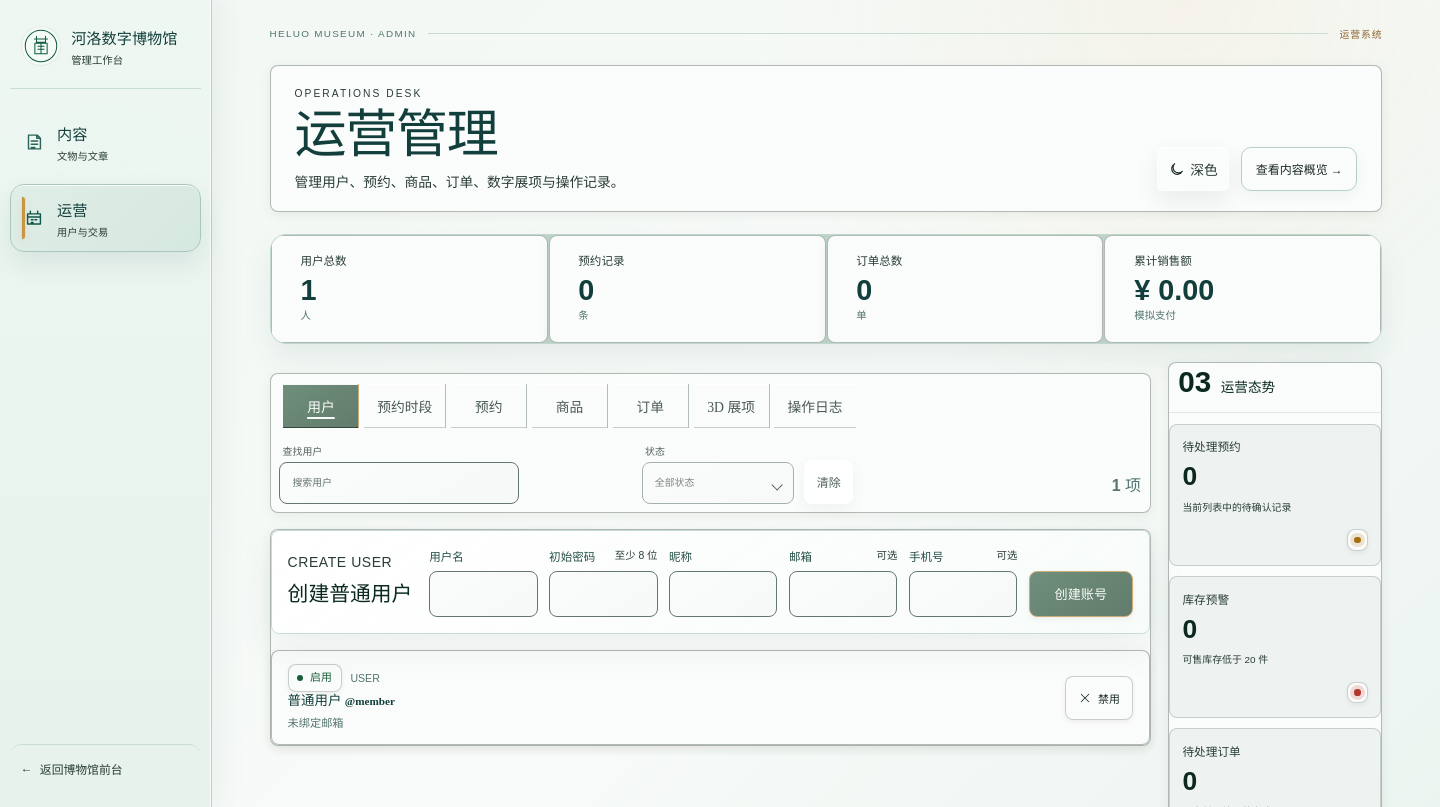
it: remediation view behavior › retains the admin user form when account creation fails
This screenshot has width=1440, height=807.
Type "new_member" into the field labelled "用户名" at point(483, 594), box [429,571,538,617]
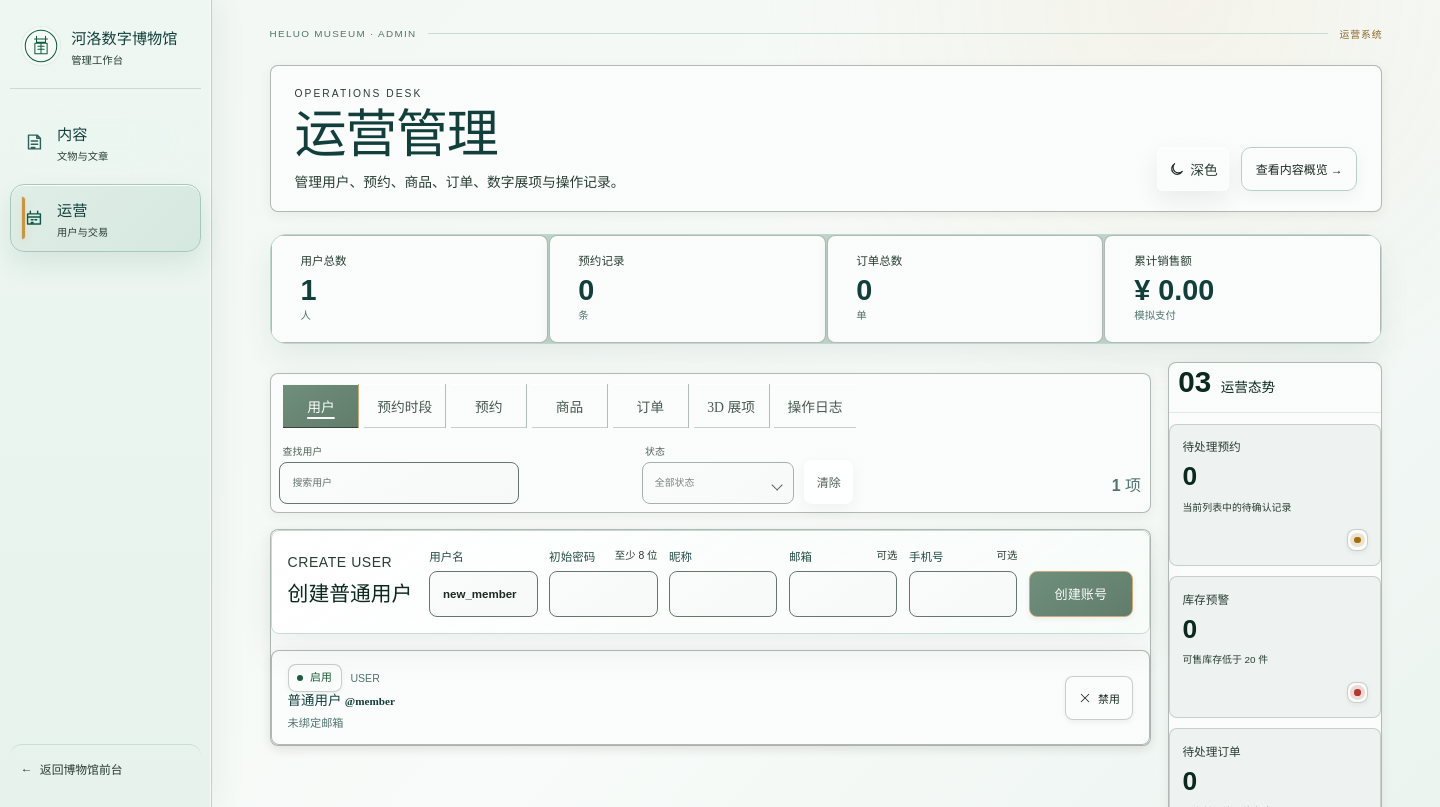
Type "SafePassword123" into the password field labelled "初始密码 至少 8 位" at point(603, 594), box [549,571,658,617]
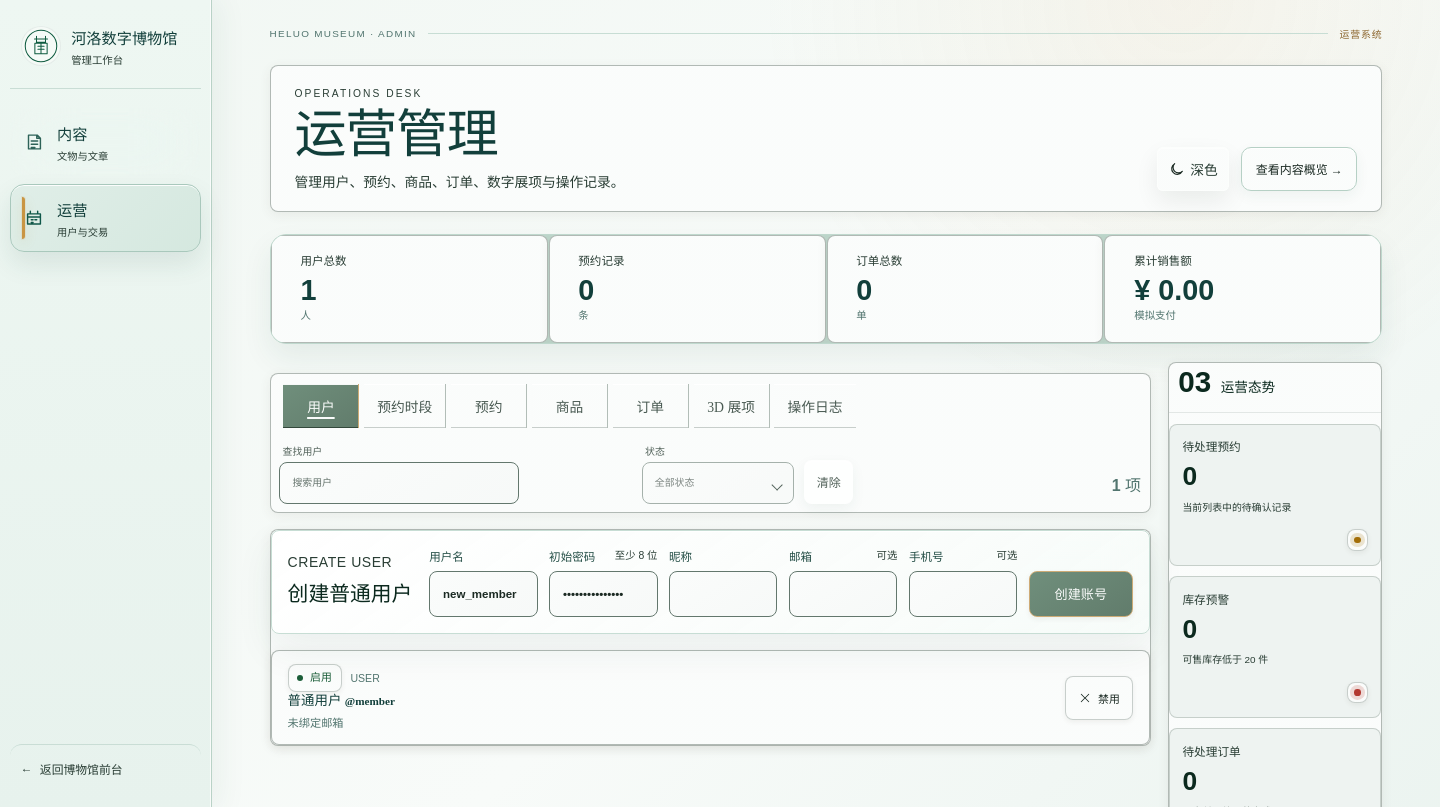
Type "新普通用户" into the field labelled "昵称" at point(723, 594), box [669,571,777,617]
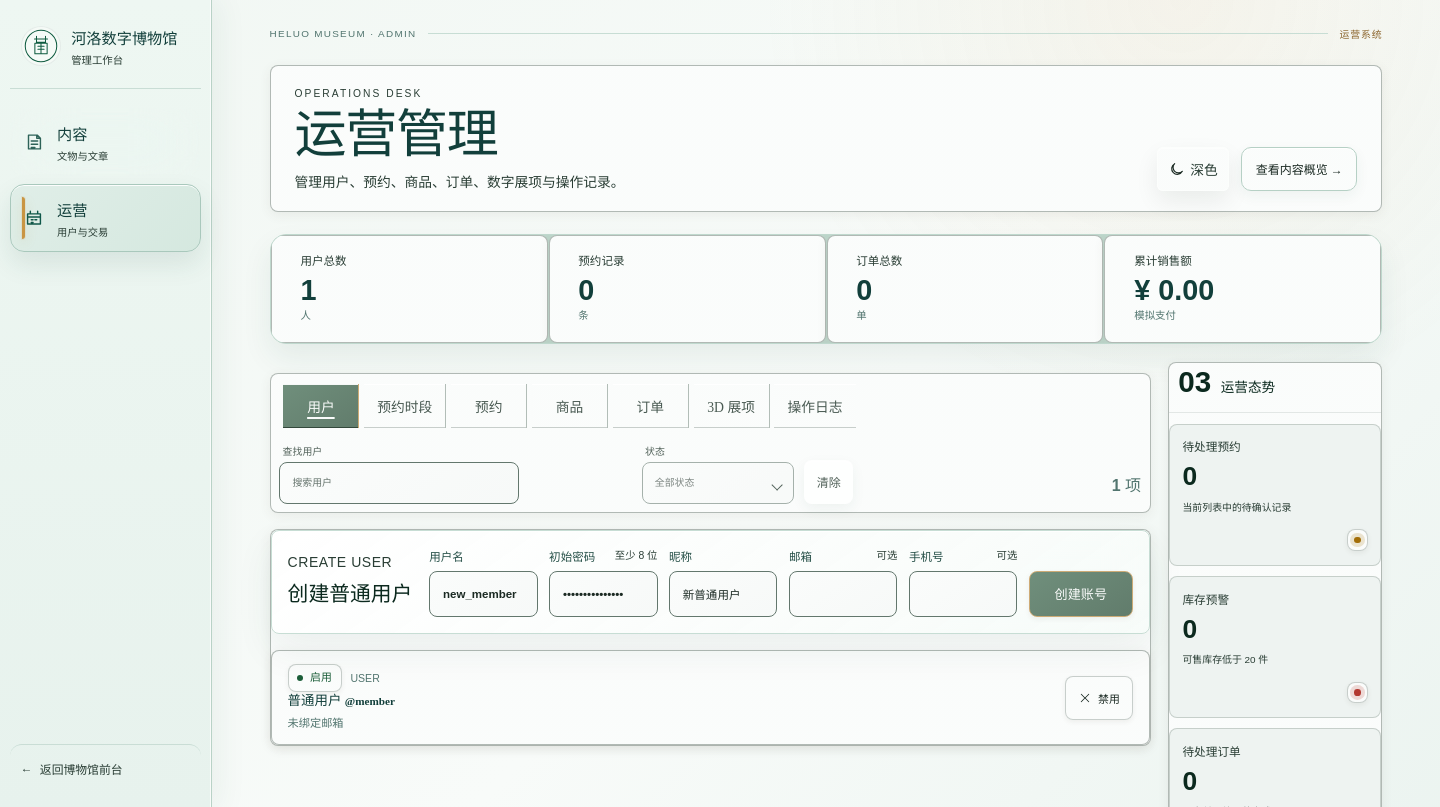
Submit the form with class "admin-inline-form", box [271,530,1150,634]
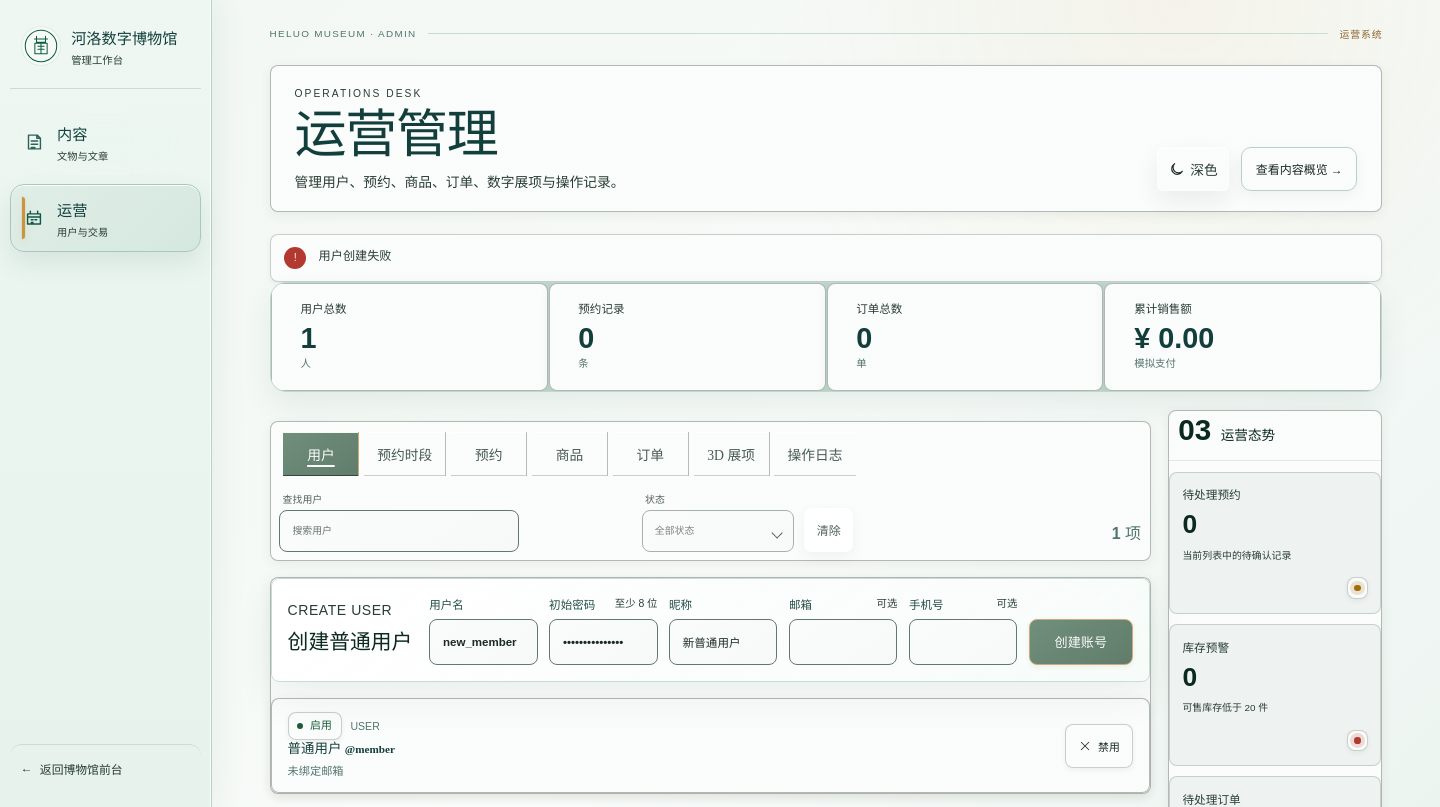
Result: the text "用户创建失败" is shown at [319,249,392,263]
